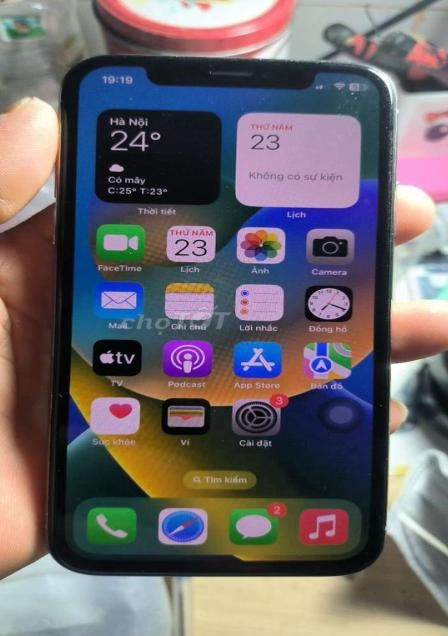scratch: (169, 49, 184, 64), (253, 55, 269, 64), (287, 56, 296, 65), (317, 58, 326, 66)
